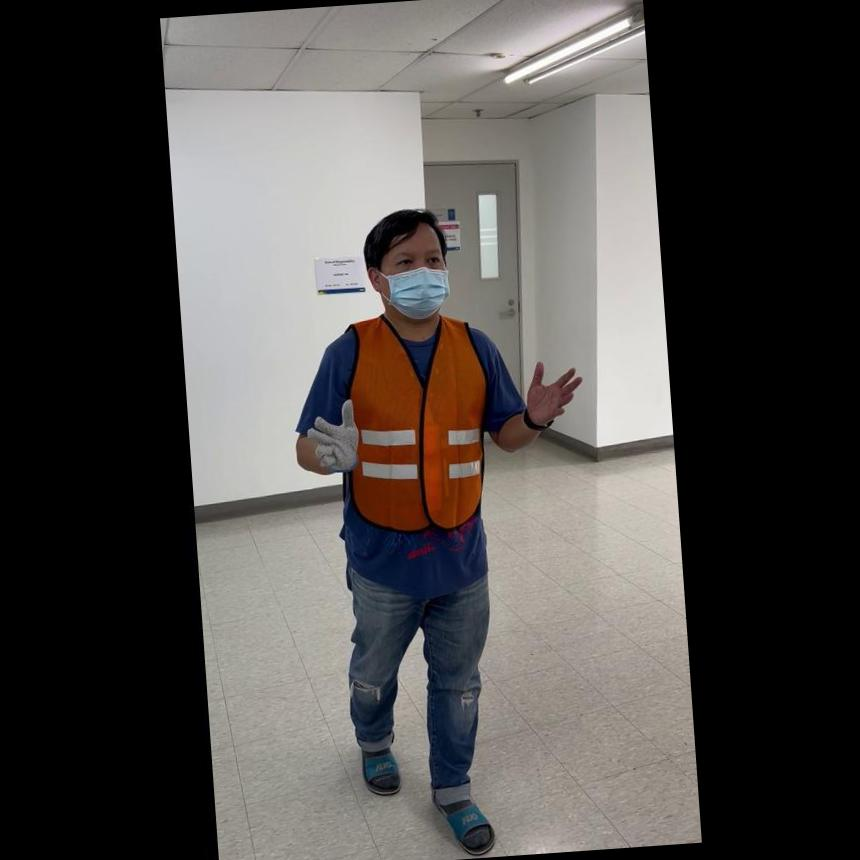Gloves: (302, 395, 364, 474)
No-gloves: (519, 352, 584, 426)
